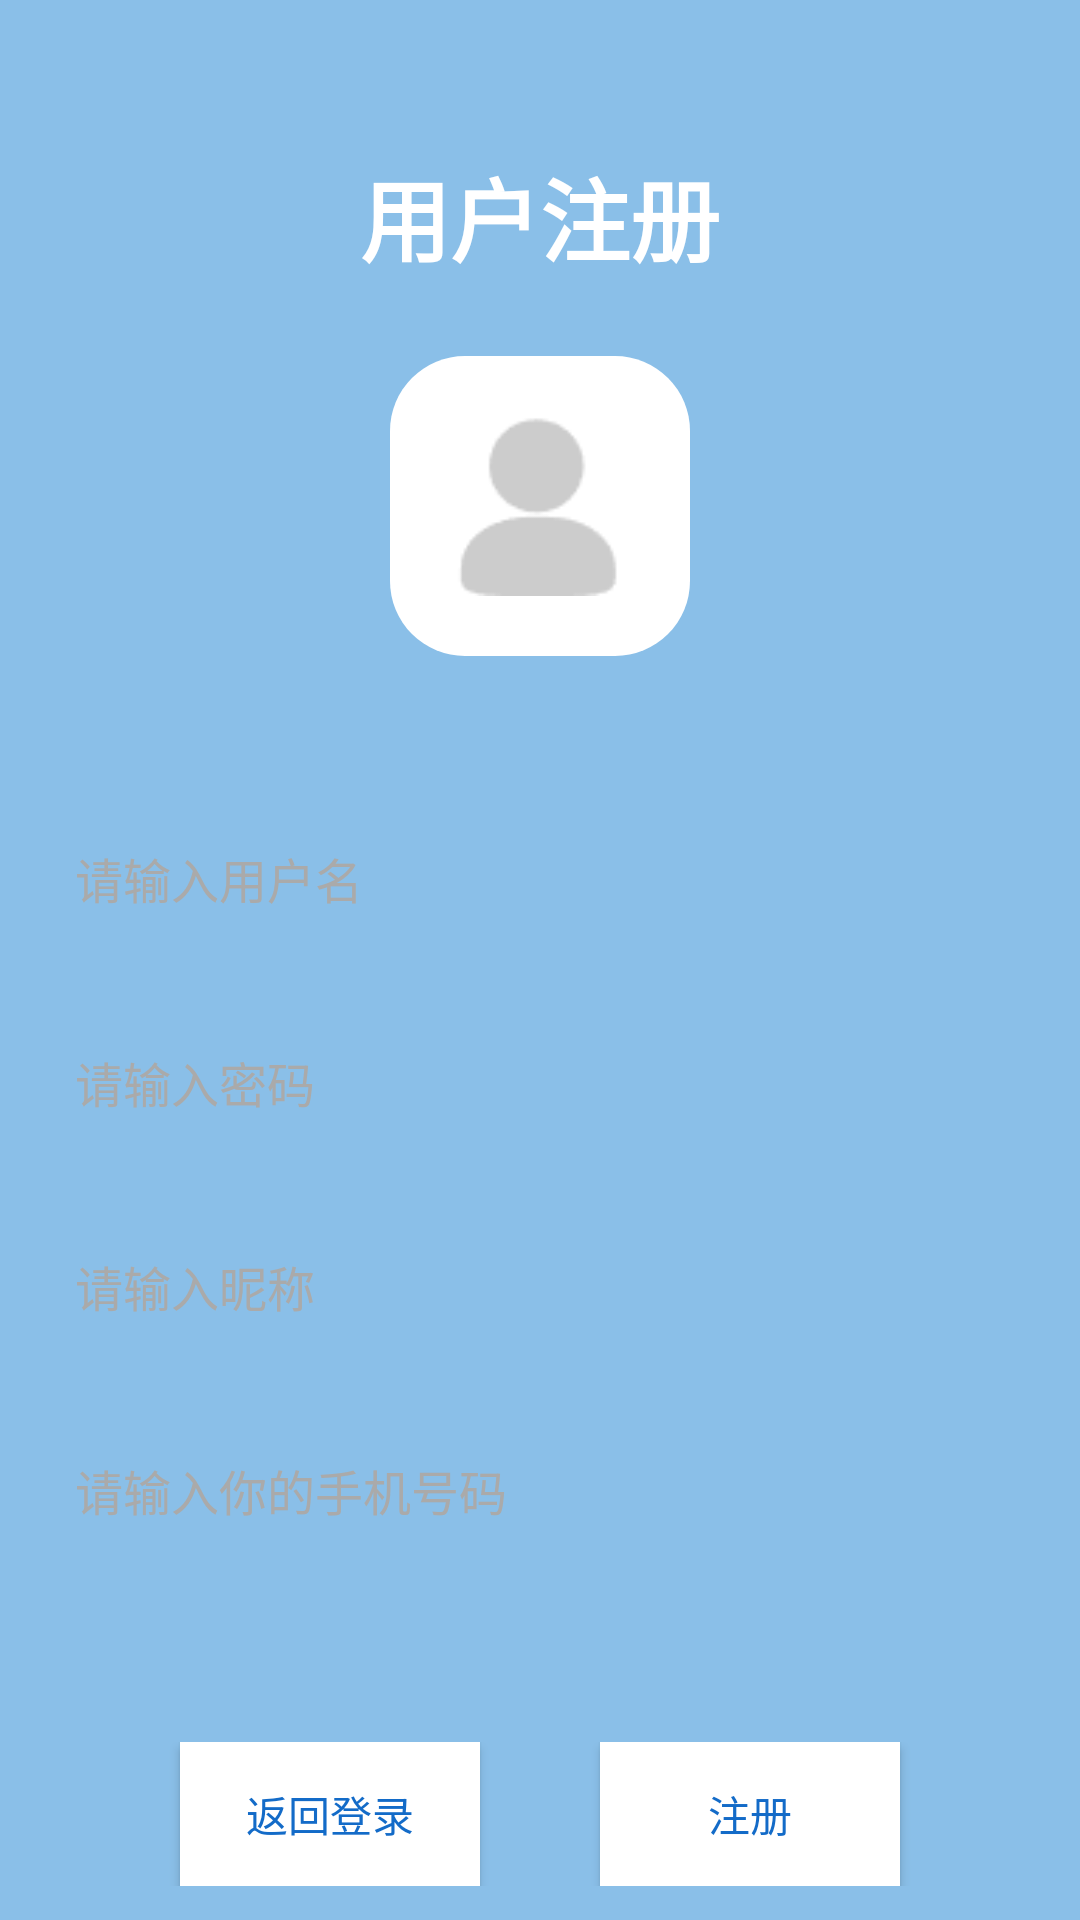

Named icons in this screenshot (1080 x 1920) and their bounding boxes, (x1, y1, x2, y2):
morentouxiang: (390, 356, 690, 656)
